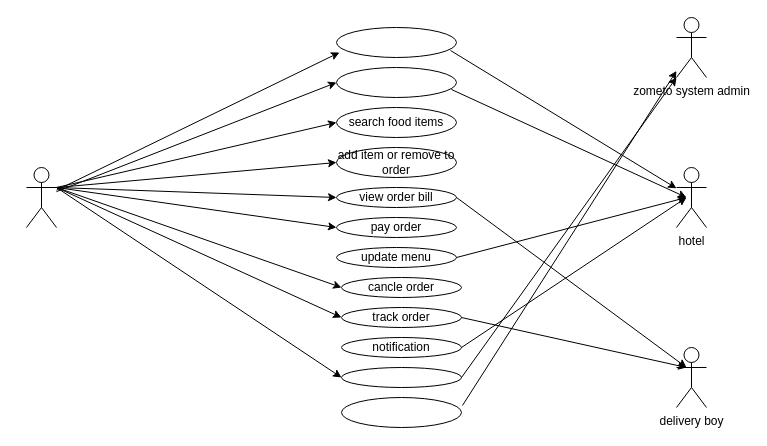
The diagram is 767 pixels wide and 446 high, and some of its shapes have lost their labels. Here are the shapes that lost their labels. From the top down, the centre of each, then its label:
the point at 396,42: register
the point at 396,82: login
the point at 41,197: customer
the point at 401,377: history of orders
the point at 401,412: add or remove hotels
